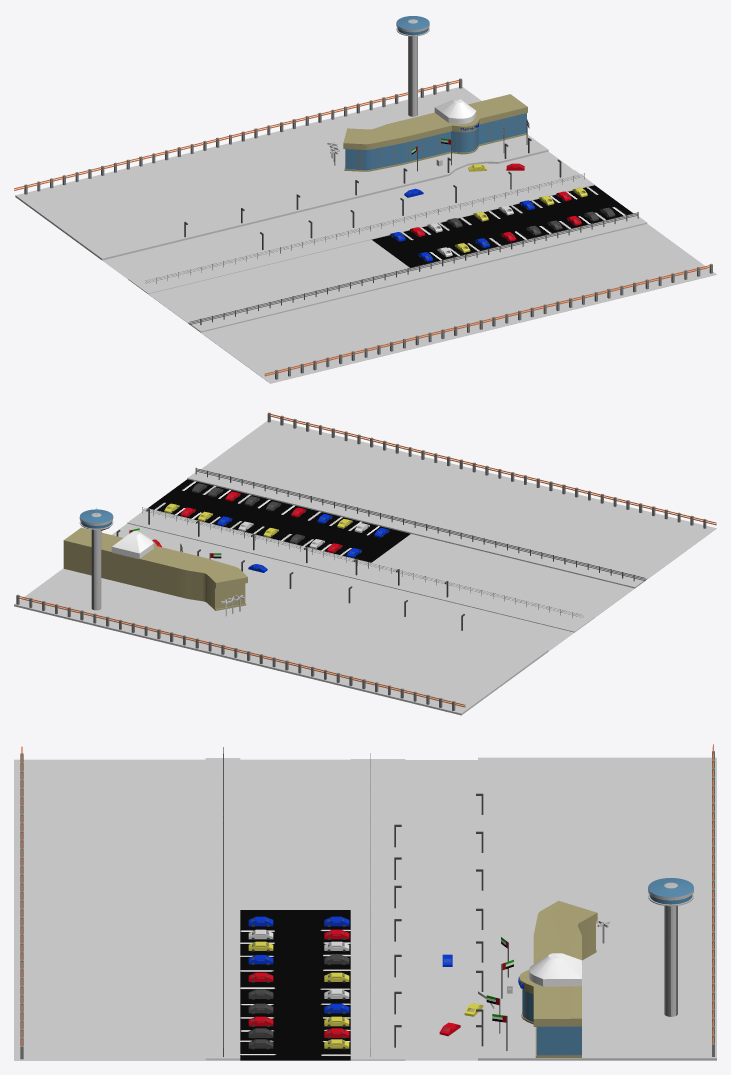
Rendered from MarinaMall.fbx.
The picture shows the model from 3 angles, top to bottom: view 1: azimuth 30°, elevation 25°; view 2: azimuth 150°, elevation 25°; view 3: azimuth 270°, elevation 25°; orthographic projection. The views are drawn at different scales.
Visible parts, largest first — view 1: Plane.001, Plane, Cube, Plane.003, Cube.029, Cube.028, Cube.007, Cylinder.023, Cube.061; view 2: Plane.001, Plane, Cube, Plane.003, Cube.028, Cube.029, Cube.007, Cylinder.023, Cube.061; view 3: Plane.001, Plane, Plane.003, Cube, Cylinder.023, Cube.029, Cube.028.
Part boxes in pixels (x1=…): Plane.001: x1=15, y1=141, x2=493, y2=383; Plane: x1=239, y1=87, x2=716, y2=328; Cube: x1=343, y1=94, x2=527, y2=171; Plane.003: x1=372, y1=185, x2=633, y2=267; Cube.029: x1=264, y1=263, x2=712, y2=379; Cube.028: x1=14, y1=78, x2=462, y2=194; Cube.007: x1=189, y1=212, x2=638, y2=324; Cylinder.023: x1=396, y1=16, x2=429, y2=116; Cube.061: x1=145, y1=173, x2=584, y2=283; Plane.001: x1=237, y1=473, x2=716, y2=715; Plane: x1=14, y1=419, x2=492, y2=660; Cube: x1=63, y1=527, x2=247, y2=610; Plane.003: x1=148, y1=479, x2=410, y2=562; Cube.028: x1=16, y1=594, x2=465, y2=710; Cube.029: x1=267, y1=412, x2=716, y2=528; Cube.007: x1=195, y1=468, x2=645, y2=581; Cylinder.023: x1=79, y1=508, x2=113, y2=610; Cube.061: x1=142, y1=507, x2=581, y2=617; Plane.001: x1=14, y1=757, x2=716, y2=910; Plane: x1=14, y1=908, x2=716, y2=1060; Plane.003: x1=240, y1=910, x2=350, y2=1060; Cube: x1=519, y1=900, x2=597, y2=1057; Cylinder.023: x1=648, y1=878, x2=693, y2=1016; Cube.029: x1=20, y1=746, x2=23, y2=1059; Cube.028: x1=712, y1=744, x2=714, y2=1056.
Bounding box in the file's own units: 10540 × 2286 × 10315.
